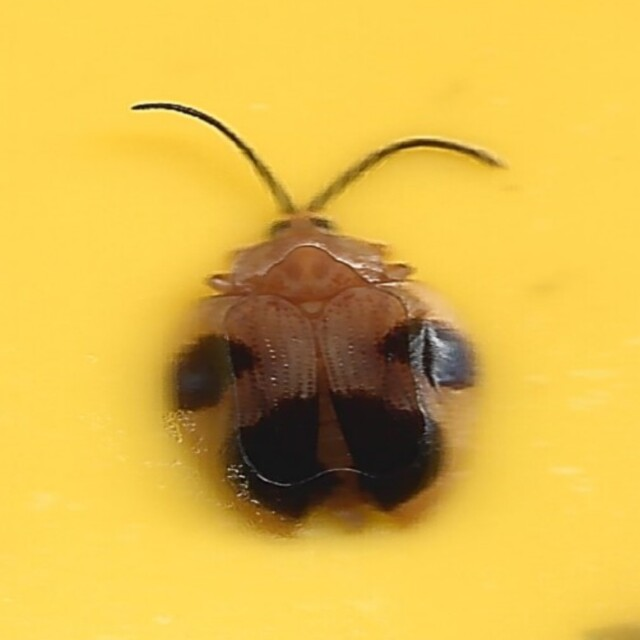Coleoptera: (127, 100, 513, 540)
